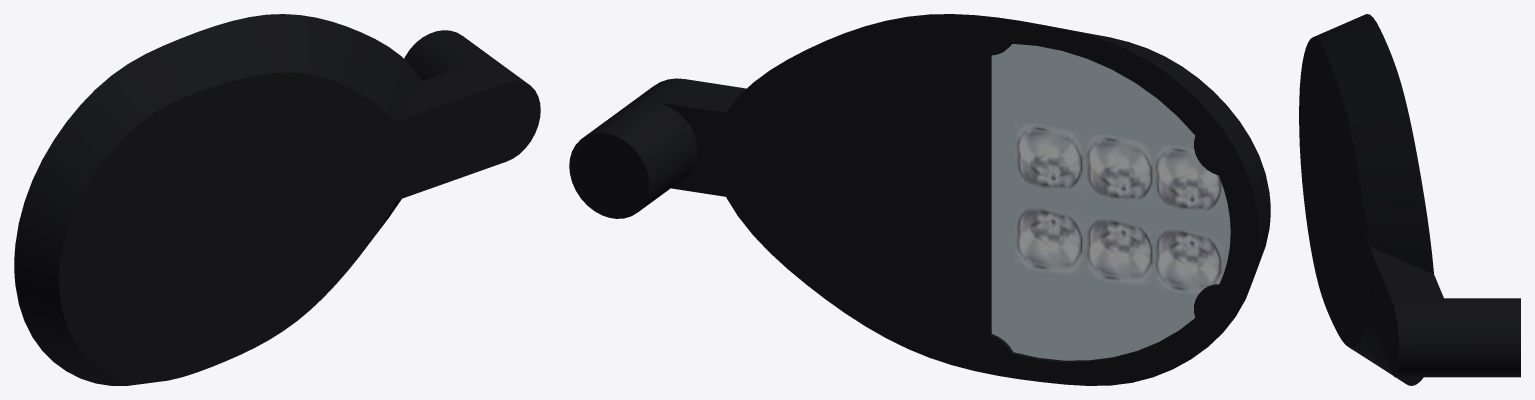
The model's file is Convia.obj.
3 renders of one model, left to right at view 1: azimuth 30°, elevation 25°; view 2: azimuth 150°, elevation 25°; view 3: azimuth 270°, elevation 25°, orthographic. The views are drawn at different scales.
Parts seen in each view (by area): view 1: Convia, Masthalterung; view 2: Convia, Masthalterung; view 3: Convia, Masthalterung.
Part boxes in pixels (x1,y1,x2,y2): Convia: [14, 14, 422, 385]; Masthalterung: [395, 30, 540, 200]; Convia: [712, 14, 1270, 385]; Masthalterung: [569, 78, 746, 218]; Convia: [1299, 14, 1433, 385]; Masthalterung: [1369, 246, 1520, 377].
Bounding box in the file's own units: 0.6617 × 0.3841 × 0.2514.
2 materials, 2 textured.
